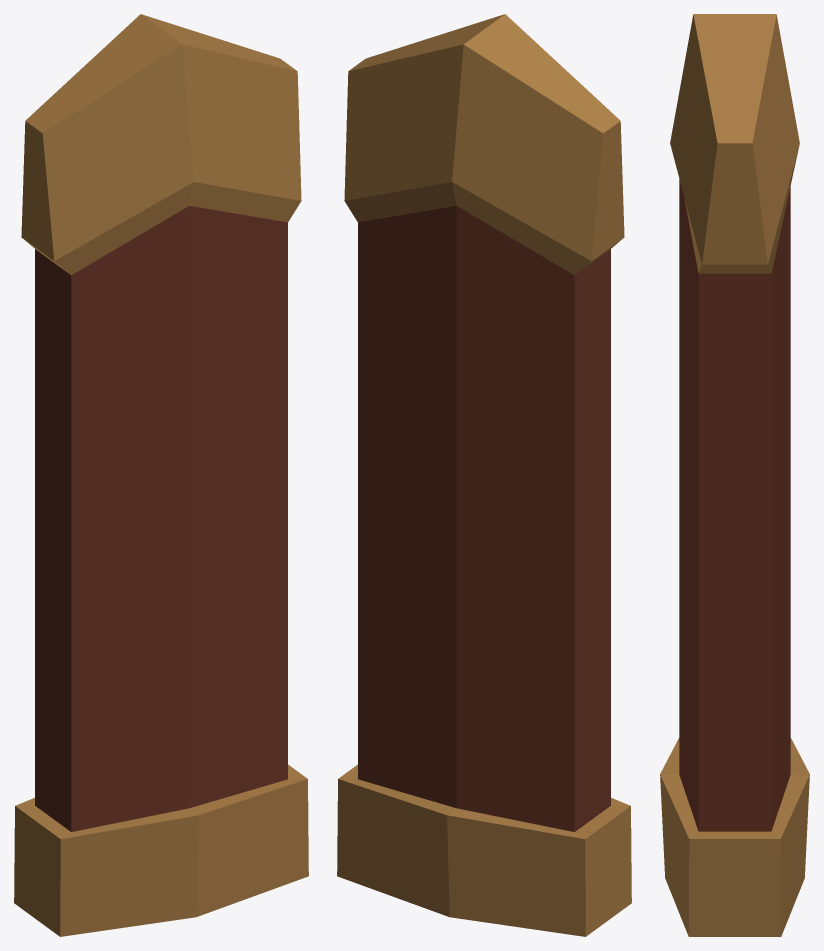
Rendered from SM_Wep_Dagger_01_Sheath.glb.
3 renders of one model, left to right at view 1: azimuth 30°, elevation 25°; view 2: azimuth 150°, elevation 25°; view 3: azimuth 270°, elevation 25°, orthographic.
Visible parts, largest first — view 1: SM_Wep_Dagger_01_Sheath; view 2: SM_Wep_Dagger_01_Sheath; view 3: SM_Wep_Dagger_01_Sheath.
Part boxes in pixels (bbox=[...]): SM_Wep_Dagger_01_Sheath: bbox=[14, 14, 308, 936]; SM_Wep_Dagger_01_Sheath: bbox=[337, 14, 631, 936]; SM_Wep_Dagger_01_Sheath: bbox=[660, 14, 809, 936].
Size of the model in its own units: 0.00105 by 0.00341 by 0.000535.
